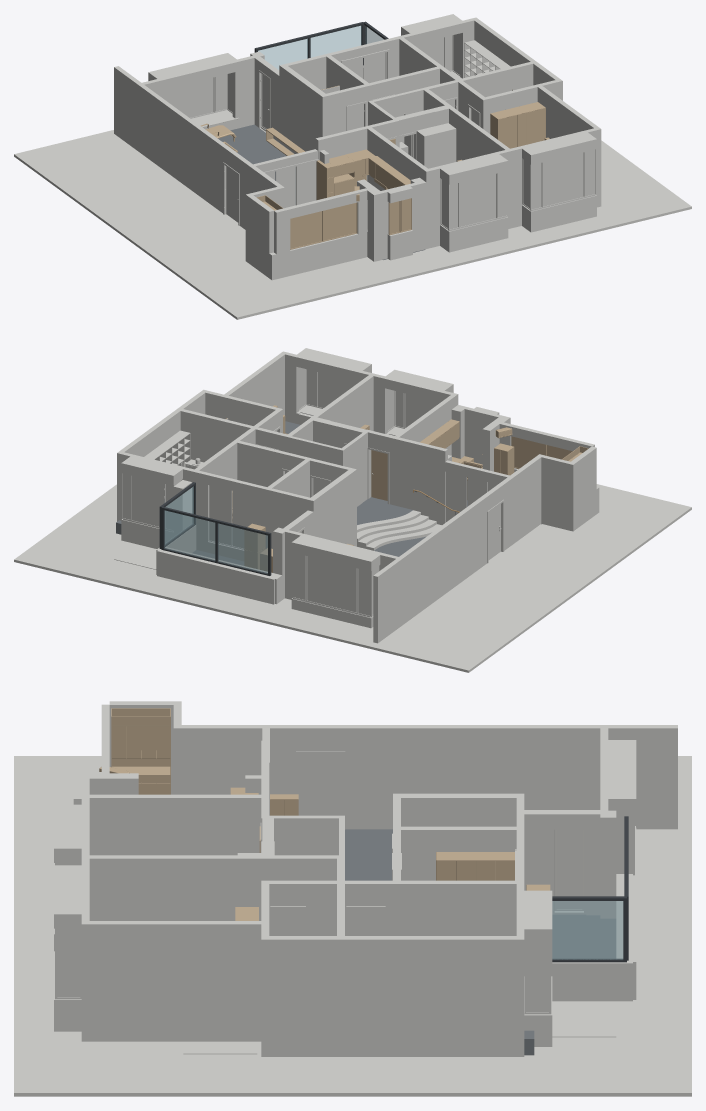
The model's file is interaction_proxy.glb.
The picture shows the model from 3 angles, top to bottom: view 1: azimuth 30°, elevation 25°; view 2: azimuth 150°, elevation 25°; view 3: azimuth 270°, elevation 25°; orthographic projection. The views are drawn at different scales.
Parts seen in each view (by area): view 1: SITE_GROUND.001, VIEW_WALL_W_wall_md_0006.001, VIEW_WALL_LIVING_FIX_GUEST_BATH_FULL_WALL.001, VIEW_WALL_W_wall_md_0042.001, VIEW_WALL_W_wall_md_0035.001, V4_W-MB-S_FRONT_GLASS_1.001, VIEW_WALL_W_wall_md_0034.001, V4_W-SMB-S_FRONT_GLASS_1.001, VIEW_WALL_W_wall_md_0007.001, VIEW_WALL_W_wall_md_0021.001, VIEW_WALL_W_wall_md_0030.001, VIEW_WALL_W_wall_md_0060.001 (+46 smaller); view 2: SITE_GROUND.001, VIEW_WALL_W_wall_md_0006.001, VIEW_WALL_W_wall_md_0062.001, VIEW_WALL_W_wall_md_0044.001, VIEW_WALL_W_wall_md_0005.001, VIEW_WALL_W_wall_md_0055.001, VIEW_WALL_W_wall_md_0043.001, VIEW_WALL_LIVING_FIX_GUEST_BATH_FULL_WALL.001, LIVING_FIX_BAY_FRONT_GLASS_1.001, VIEW_WALL_W_wall_md_0049.001, NORTH_BALCONY_GLASS_NORTH_B.001, VIEW_WALL_W_wall_md_0007.001 (+55 smaller); view 3: SITE_GROUND.001, VIEW_WALL_W_wall_md_0030.001, VIEW_WALL_W_wall_md_0033.001, VIEW_WALL_W_wall_md_0006.001, VIEW_WALL_W_wall_md_0021.001, VIEW_WALL_W_wall_md_0015.001, VIEW_WALL_W_wall_md_0032.001, VIEW_WALL_W_wall_md_0005.001, VIEW_WALL_W_wall_md_0025.001, FLOOR_LOWER.001, VIEW_WALL_W_wall_md_0007.001, NORTH_BALCONY_GLASS_EAST.001 (+38 smaller).
Boxes of the visible parts, x1,y1,x2,y2 form: SITE_GROUND.001: (14, 128, 691, 319); VIEW_WALL_W_wall_md_0006.001: (139, 85, 227, 212); VIEW_WALL_LIVING_FIX_GUEST_BATH_FULL_WALL.001: (282, 66, 325, 153); VIEW_WALL_W_wall_md_0042.001: (276, 232, 367, 278); VIEW_WALL_W_wall_md_0035.001: (533, 139, 594, 231); V4_W-MB-S_FRONT_GLASS_1.001: (543, 152, 583, 206); VIEW_WALL_W_wall_md_0034.001: (451, 161, 505, 251); V4_W-SMB-S_FRONT_GLASS_1.001: (460, 174, 496, 226); VIEW_WALL_W_wall_md_0007.001: (114, 66, 141, 150); VIEW_WALL_W_wall_md_0021.001: (449, 107, 509, 161); VIEW_WALL_W_wall_md_0030.001: (537, 86, 598, 138); VIEW_WALL_W_wall_md_0060.001: (232, 55, 254, 128); SITE_GROUND.001: (14, 484, 691, 672); VIEW_WALL_W_wall_md_0006.001: (399, 495, 487, 624); VIEW_WALL_W_wall_md_0062.001: (157, 547, 277, 604); VIEW_WALL_W_wall_md_0044.001: (396, 437, 441, 524); VIEW_WALL_W_wall_md_0005.001: (499, 456, 541, 550); VIEW_WALL_W_wall_md_0055.001: (196, 470, 266, 561); VIEW_WALL_W_wall_md_0043.001: (541, 455, 575, 531); VIEW_WALL_LIVING_FIX_GUEST_BATH_FULL_WALL.001: (311, 470, 354, 545); LIVING_FIX_BAY_FRONT_GLASS_1.001: (307, 556, 356, 612); VIEW_WALL_W_wall_md_0049.001: (180, 409, 253, 462); NORTH_BALCONY_GLASS_NORTH_B.001: (164, 510, 215, 560); VIEW_WALL_W_wall_md_0007.001: (373, 559, 400, 643); SITE_GROUND.001: (14, 756, 691, 1096); VIEW_WALL_W_wall_md_0030.001: (89, 921, 261, 1041); VIEW_WALL_W_wall_md_0033.001: (345, 936, 516, 1056); VIEW_WALL_W_wall_md_0006.001: (345, 725, 600, 829); VIEW_WALL_W_wall_md_0021.001: (89, 855, 261, 920); VIEW_WALL_W_wall_md_0015.001: (89, 794, 261, 855); VIEW_WALL_W_wall_md_0032.001: (261, 936, 336, 1056); VIEW_WALL_W_wall_md_0005.001: (181, 725, 296, 794); VIEW_WALL_W_wall_md_0025.001: (401, 880, 516, 935); FLOOR_LOWER.001: (345, 829, 616, 958); VIEW_WALL_W_wall_md_0007.001: (608, 725, 677, 829); NORTH_BALCONY_GLASS_EAST.001: (552, 901, 623, 959).
Bounding box in the file's own units: 20 × 3.37 × 17.
